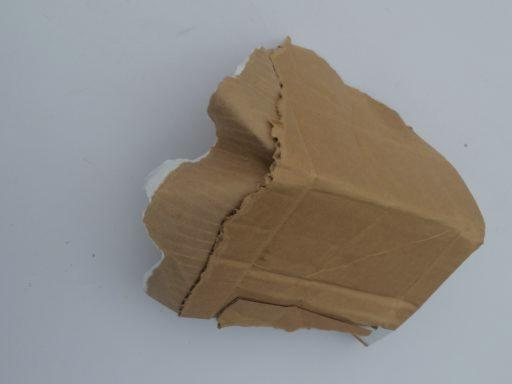cardboard: (140, 37, 488, 346)
